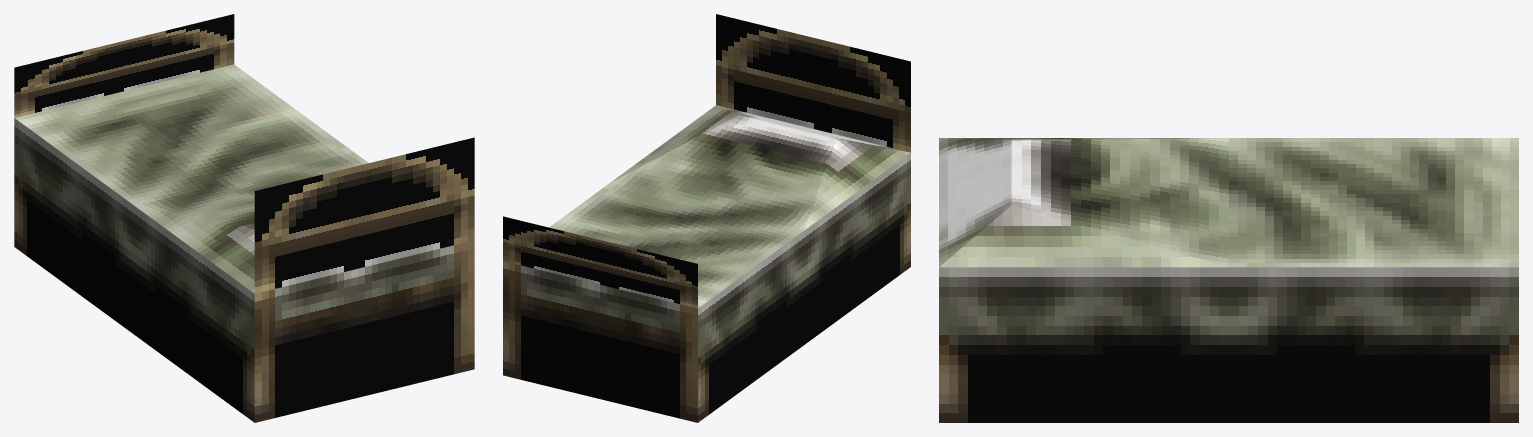
3 views of the same model, side by side, from view 1: azimuth 30°, elevation 25°; view 2: azimuth 150°, elevation 25°; view 3: azimuth 270°, elevation 25° (orthographic). The views are drawn at different scales.
Visible parts, largest first — view 1: prim184-singlebed; view 2: prim184-singlebed; view 3: prim184-singlebed.
Part boxes in pixels (box(x1,y1,x2,y2)): prim184-singlebed: box(14, 14, 474, 422); prim184-singlebed: box(503, 14, 910, 422); prim184-singlebed: box(939, 138, 1518, 422).
Size of the model in its own units: 114 by 115 by 216.
Materials: 1 (1 with a texture image).
